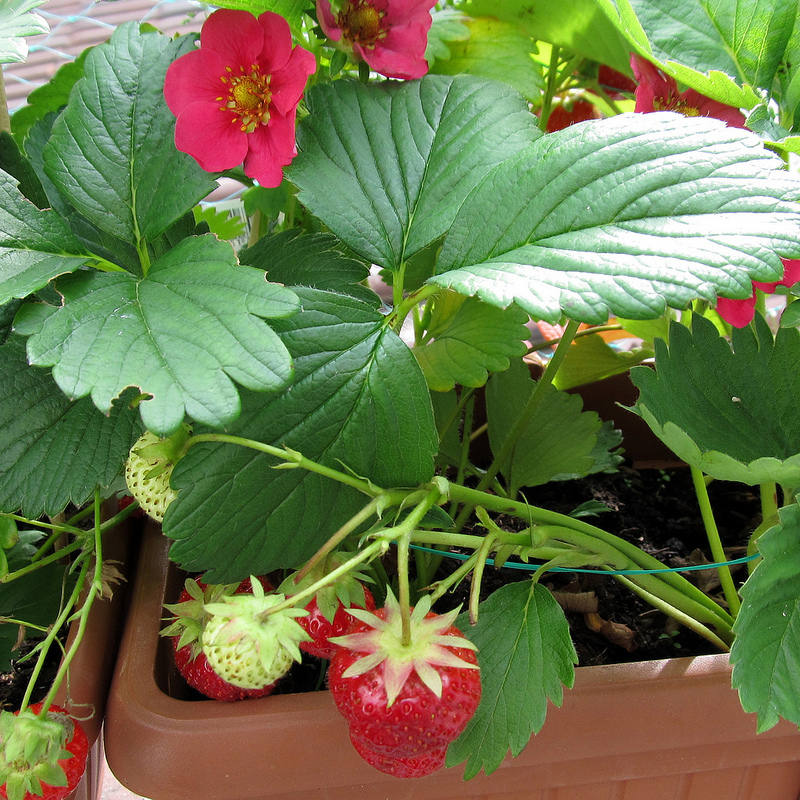ripe_strawberry: (329, 599, 485, 759), (169, 569, 280, 702), (1, 700, 92, 800), (280, 577, 378, 662), (346, 730, 449, 782)
unripe_strawberry: (201, 587, 306, 693), (125, 421, 189, 525)
